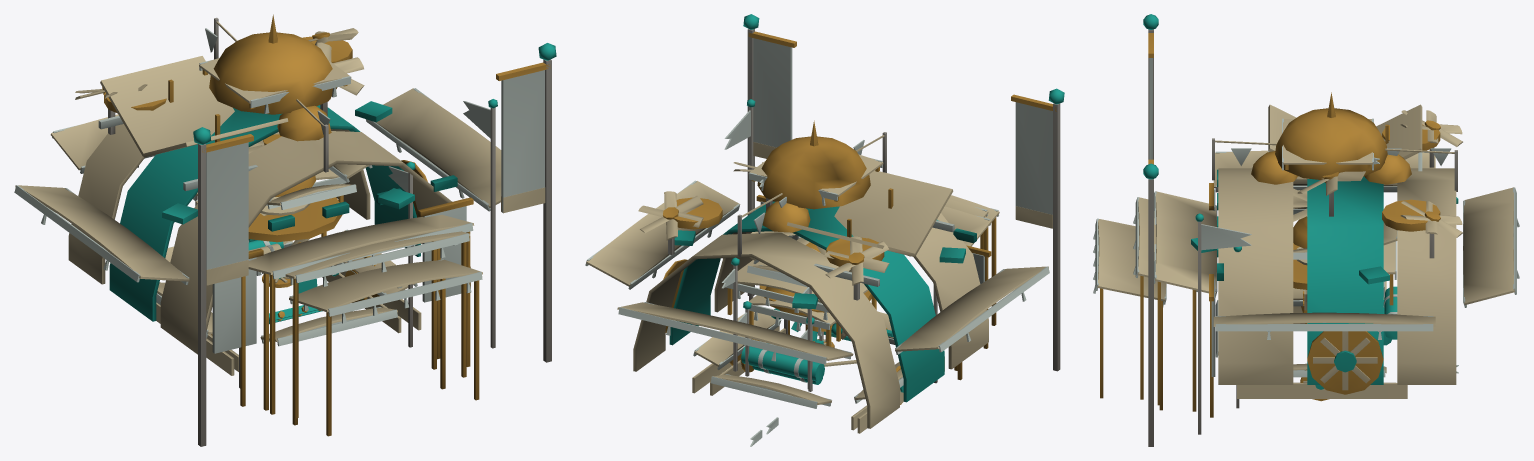
The model's file is dress-sunward.glb.
The picture shows the model from 3 angles, left to right: view 1: azimuth 30°, elevation 25°; view 2: azimuth 150°, elevation 25°; view 3: azimuth 270°, elevation 25°; orthographic projection. The views are drawn at different scales.
Visible parts, largest first — view 1: hq__body__Dress, barracks__body__Dress, foundry__body__Dress, hq__body__Team, foundry__body__Team, tower__body__Dress, relay__body__Dress, barracks__body__Team, relay__body__Team, tank__body__Dress, breaker__body__Dress, tower__barrel__Dress (+2 smaller); view 2: barracks__body__Dress, hq__body__Dress, hq__body__Team, foundry__body__Dress, tank__body__Dress, relay__body__Dress, tank__turret__Dress, relay__body__Team, breaker__body__Dress, foundry__body__Team, barracks__body__Team, breaker__turret__Dress (+3 smaller); view 3: barracks__body__Dress, hq__body__Dress, foundry__body__Dress, hq__body__Team, tank__body__Dress, barracks__body__Team, relay__body__Dress, tower__body__Dress, foundry__body__Team, tower__barrel__Dress, tank__turret__Dress.
Boxes of the visible parts, x1,y1,x2,y2 form: hq__body__Dress: [15, 14, 556, 446]; barracks__body__Dress: [68, 17, 497, 418]; foundry__body__Dress: [100, 36, 474, 414]; hq__body__Team: [14, 70, 544, 323]; foundry__body__Team: [98, 116, 473, 353]; tower__body__Dress: [248, 164, 368, 293]; relay__body__Dress: [157, 132, 415, 388]; barracks__body__Team: [205, 28, 490, 286]; relay__body__Team: [156, 166, 417, 346]; tank__body__Dress: [156, 239, 421, 375]; breaker__body__Dress: [195, 195, 401, 371]; tower__barrel__Dress: [199, 58, 351, 108]; barracks__body__Dress: [633, 99, 988, 428]; hq__body__Dress: [586, 14, 1064, 371]; hq__body__Team: [585, 38, 1052, 364]; foundry__body__Dress: [663, 162, 991, 380]; tank__body__Dress: [692, 257, 944, 433]; relay__body__Dress: [694, 220, 938, 404]; tank__turret__Dress: [727, 260, 876, 341]; relay__body__Team: [693, 319, 903, 408]; breaker__body__Dress: [710, 301, 867, 430]; foundry__body__Team: [760, 201, 990, 286]; barracks__body__Team: [724, 110, 987, 233]; breaker__turret__Dress: [748, 295, 835, 346]; barracks__body__Dress: [1137, 138, 1457, 434]; hq__body__Dress: [1097, 14, 1514, 446]; foundry__body__Dress: [1155, 104, 1440, 417]; hq__body__Team: [1093, 58, 1519, 339]; tank__body__Dress: [1237, 286, 1407, 401]; barracks__body__Team: [1133, 148, 1451, 291]; relay__body__Dress: [1218, 188, 1386, 408]; tower__body__Dress: [1293, 190, 1397, 289]; foundry__body__Team: [1154, 151, 1422, 376]; tower__barrel__Dress: [1283, 119, 1372, 169]; tank__turret__Dress: [1383, 241, 1395, 305].
Size of the model in its own units: 6.02 by 4.6 by 6.14.
